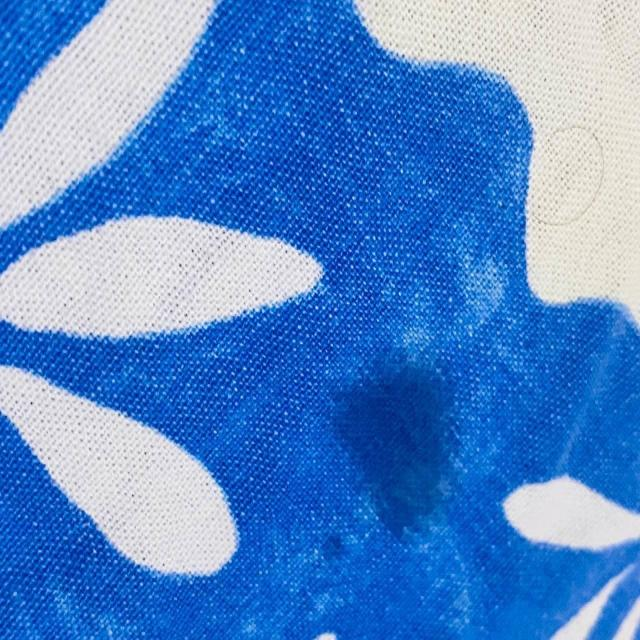stain: (318, 350, 472, 581)
